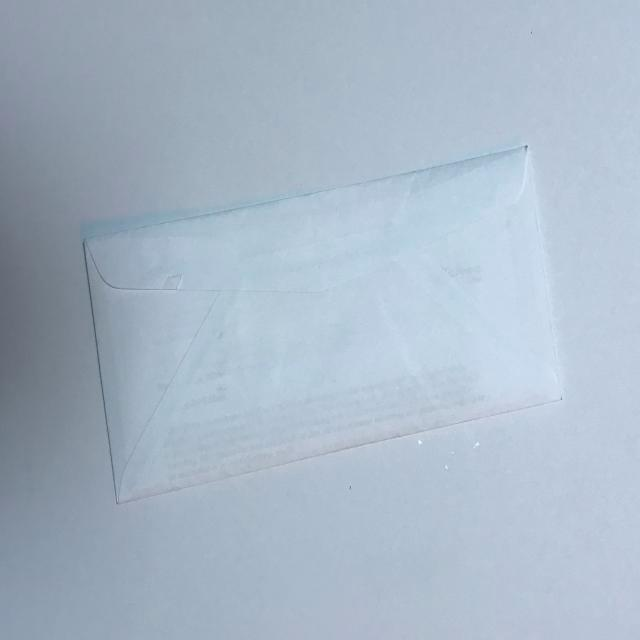paper: (72, 132, 586, 518)
